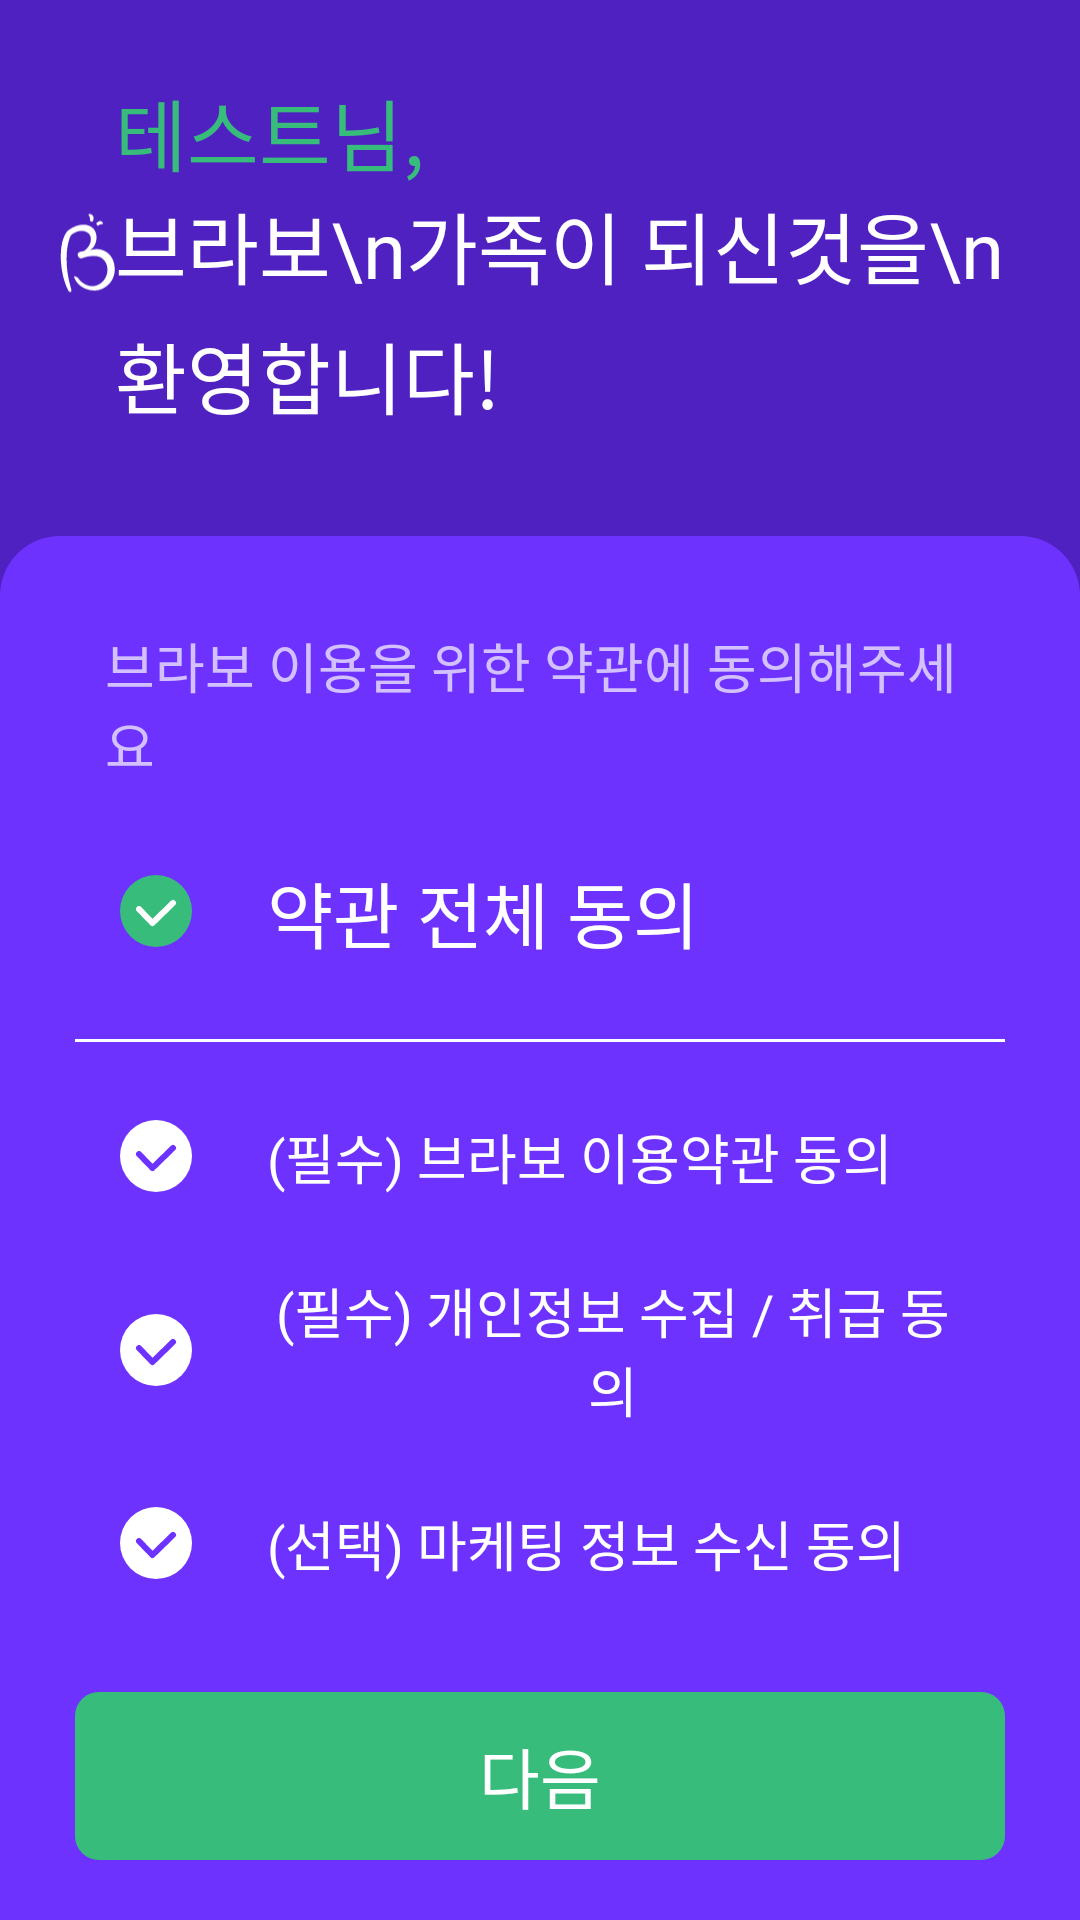

Icons on this 1080×1920 Android screen, each with its box as (x1, y1, x2, y2):
terms agree: (120, 875, 192, 947), (120, 1120, 192, 1192), (120, 1314, 192, 1386), (120, 1507, 192, 1579)
